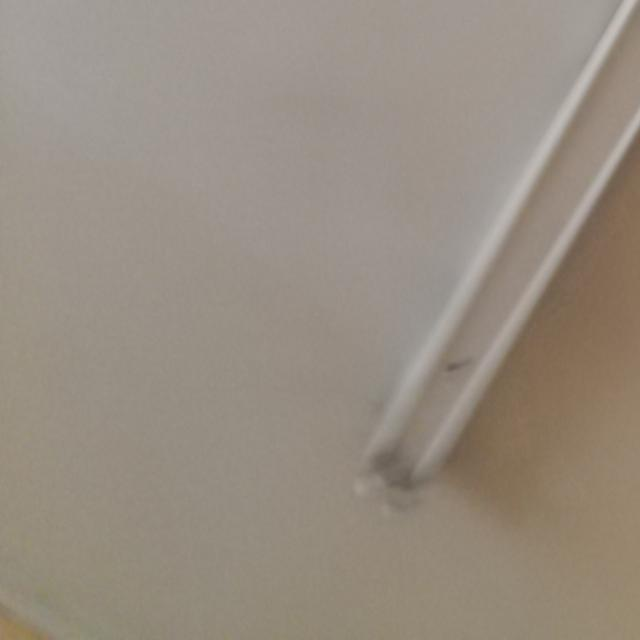fluorescent tube: (321, 0, 640, 515)
